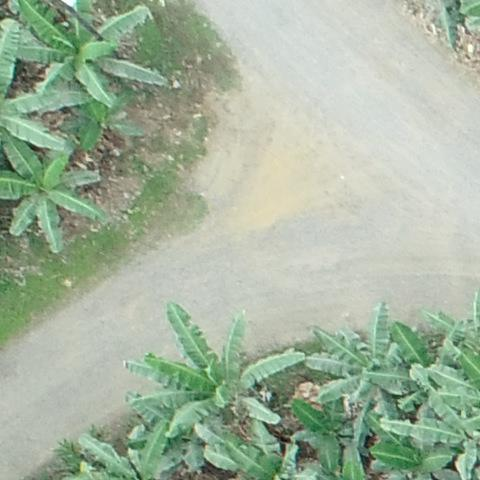Banana-plant: (124, 300, 309, 436), (0, 0, 169, 125), (0, 122, 103, 257), (303, 298, 425, 408), (378, 361, 480, 480), (291, 382, 365, 470), (57, 81, 152, 149), (369, 411, 461, 480)
